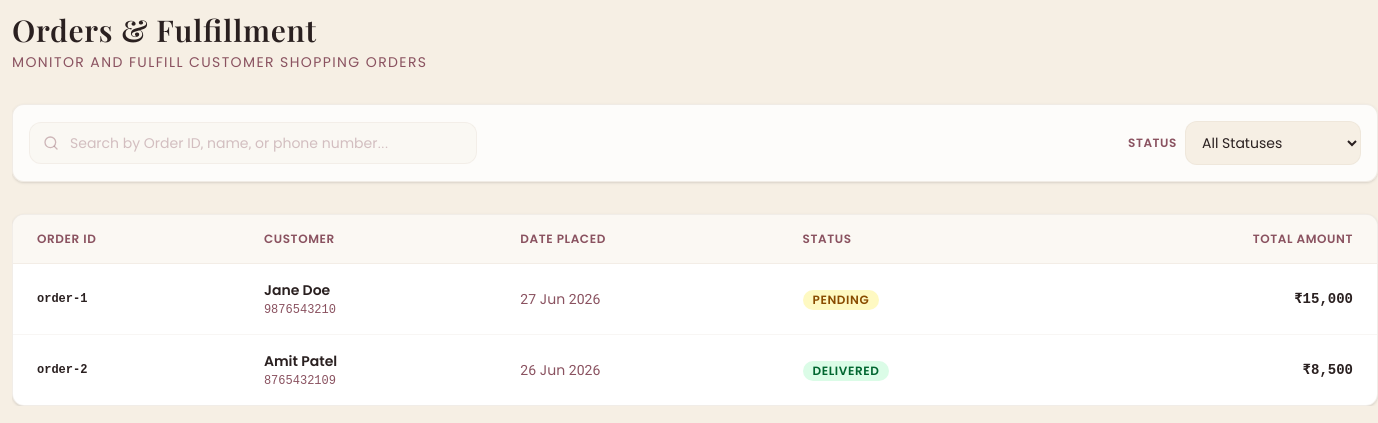
Test: AdminOrdersPage › filters orders by status select
Step 1. Select "Delivered" in the dropdown labelled "Status" → (1273,143), box x1=1185 y1=121 x2=1361 y2=165
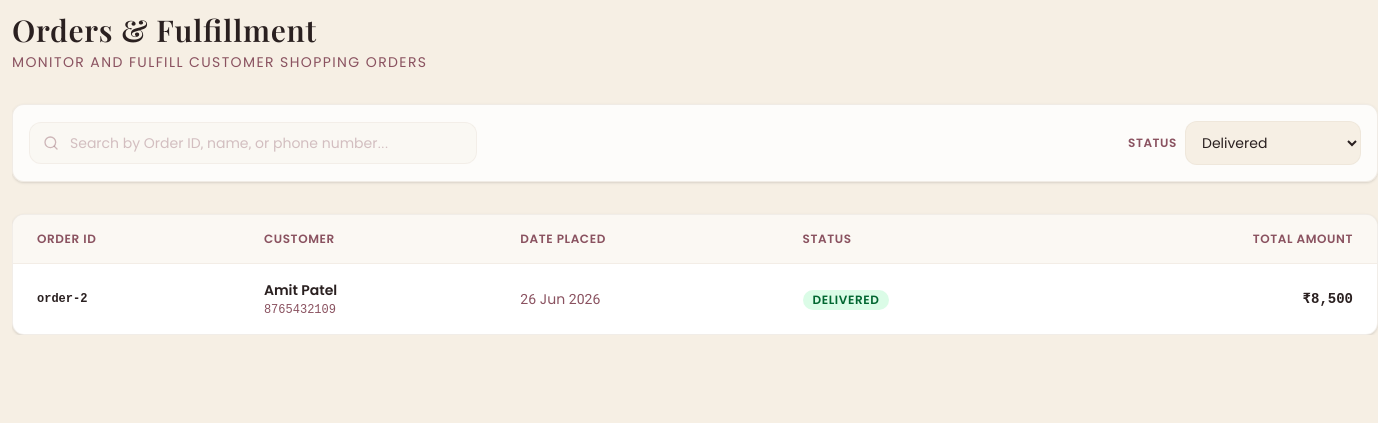
expect the text "Amit Patel" is shown: met, box x1=264 y1=280 x2=337 y2=300
expect the text "Jane Doe" is gone: met
